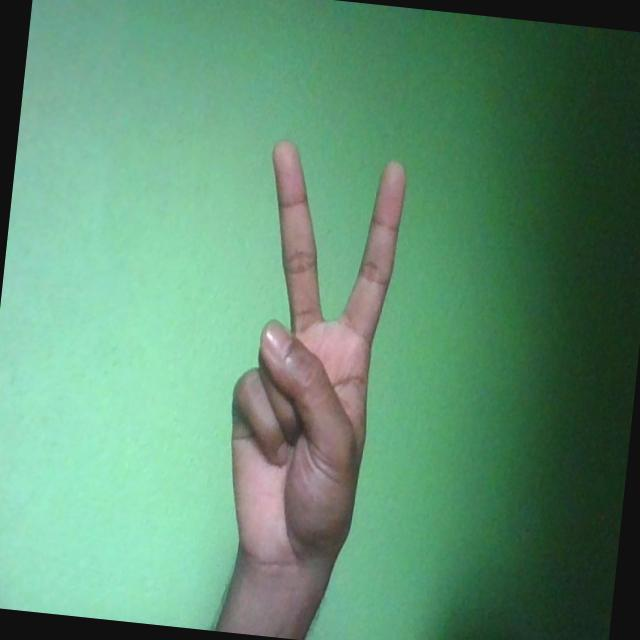Fist: (212, 135, 408, 582)
